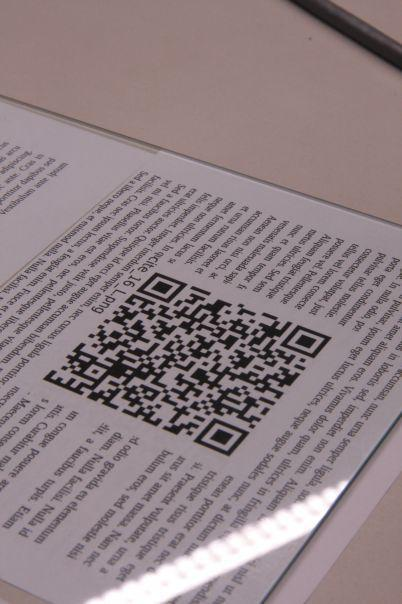Finder pattern: (197, 416, 249, 456), (280, 325, 334, 356), (137, 273, 186, 301)
